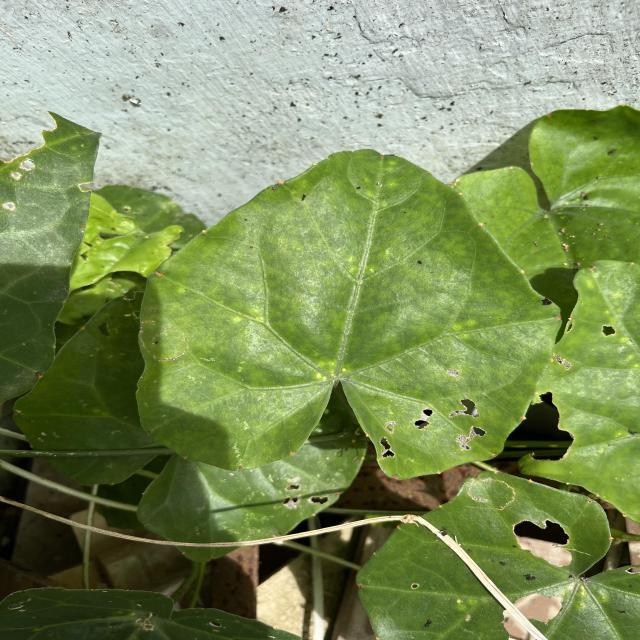Coccinia grandis: (128, 146, 566, 482)
